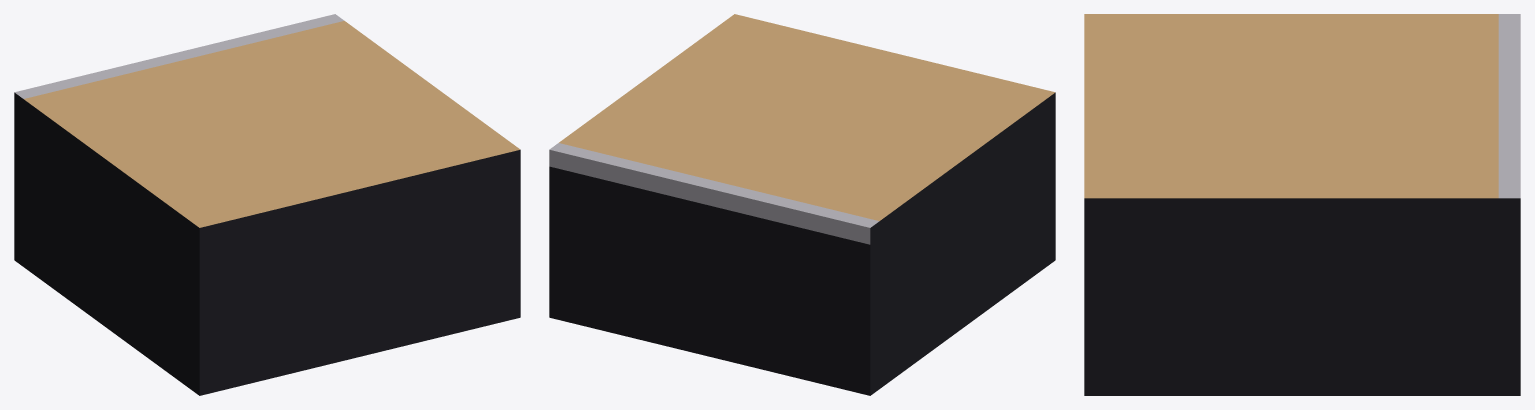
Rendered from ManPad_5.fbx.
The picture shows the model from 3 angles, left to right: view 1: azimuth 30°, elevation 25°; view 2: azimuth 150°, elevation 25°; view 3: azimuth 270°, elevation 25°; orthographic projection. The views are drawn at different scales.
Visible parts, largest first — view 1: ManPad_5; view 2: ManPad_5; view 3: ManPad_5.
Boxes of the visible parts, left/top/right/bottom form: ManPad_5: left=14, top=14, right=520, bottom=395; ManPad_5: left=549, top=14, right=1055, bottom=395; ManPad_5: left=1084, top=14, right=1520, bottom=395.
Size of the model in its own units: 10 by 5 by 10.
